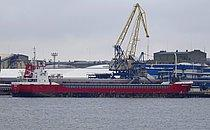Ship: (11, 46, 197, 100)
